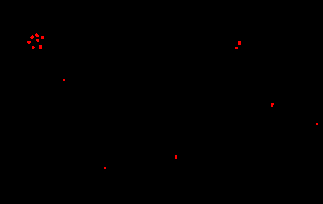Target: (35, 33, 39, 37), (30, 35, 34, 39), (27, 41, 31, 44), (238, 41, 241, 45), (39, 45, 42, 49), (271, 103, 274, 107), (41, 36, 44, 39), (36, 39, 39, 42), (32, 46, 35, 49), (175, 155, 177, 159), (235, 47, 238, 49), (63, 79, 65, 81), (316, 123, 318, 125), (104, 167, 106, 169)
